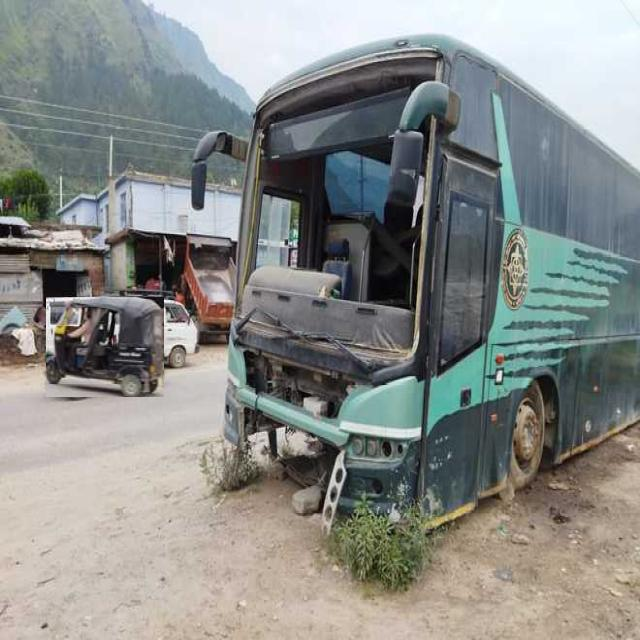accident: (191, 35, 640, 529)
autorickshaw: (46, 298, 164, 397)
